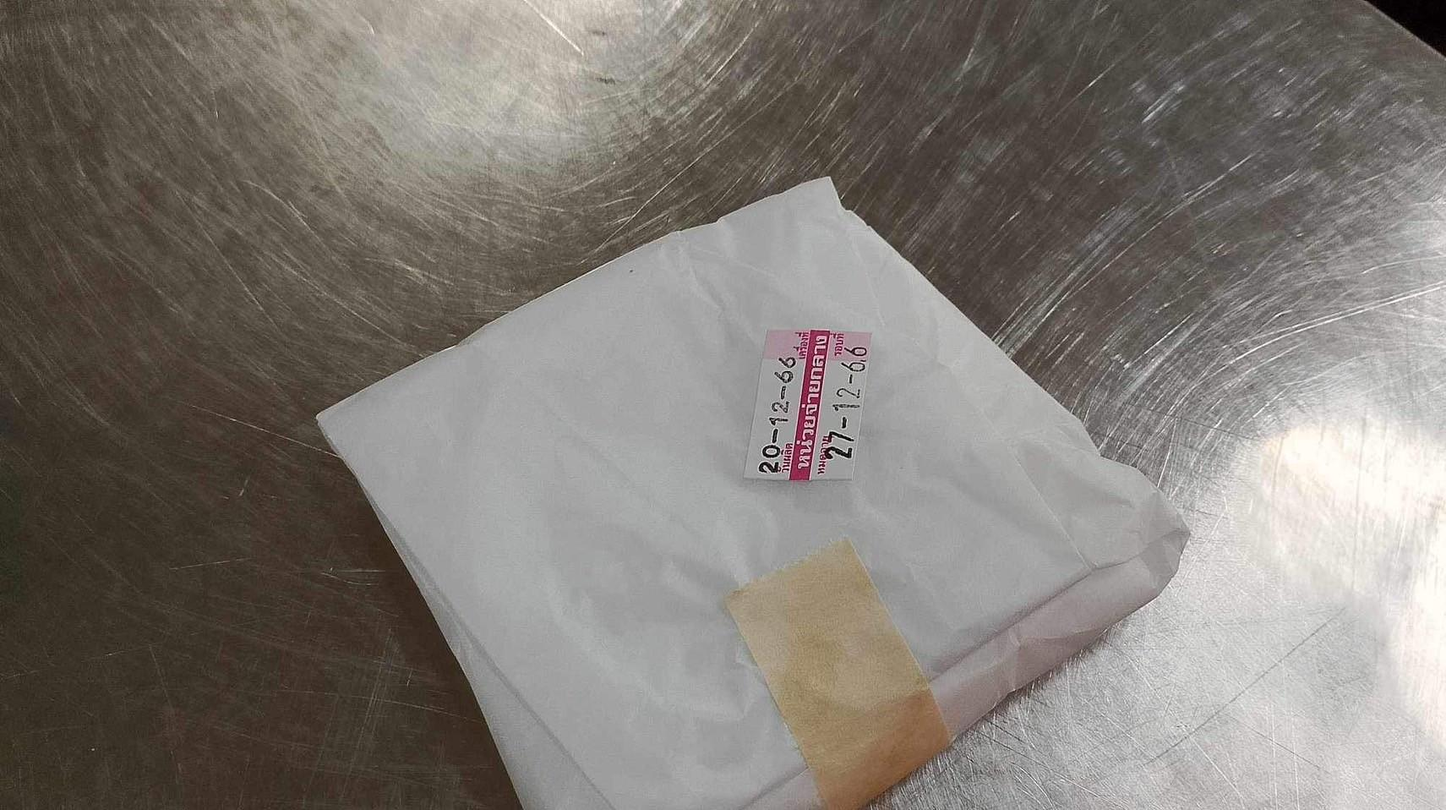General: (739, 326, 874, 486)
Pathological: (312, 173, 1193, 806)
